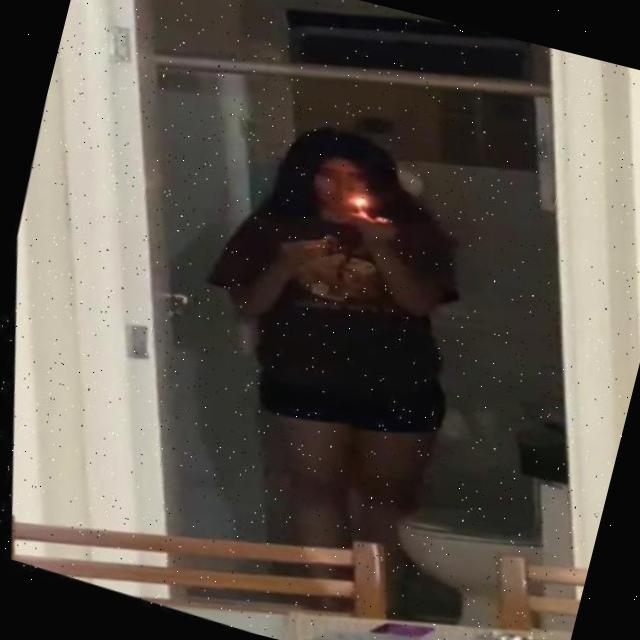fire: (337, 189, 374, 220)
